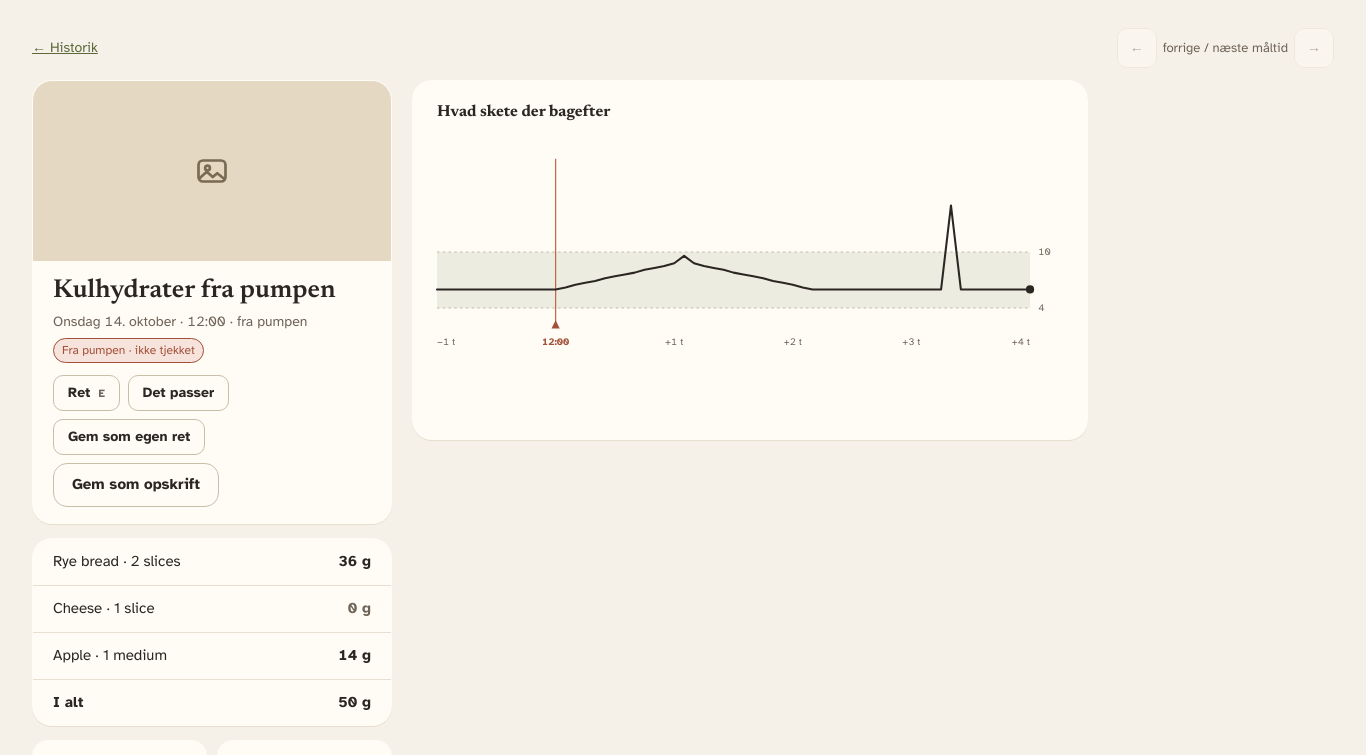
Test: Måltid · who logged a pump meal (#244) › desktop: names the person who ticks 'Det passer' once the meal is theirs
The width and height of the screenshot is (1366, 755).
Step 1. Click the button "Det passer" → click(178, 393), box [128,375,229,411]
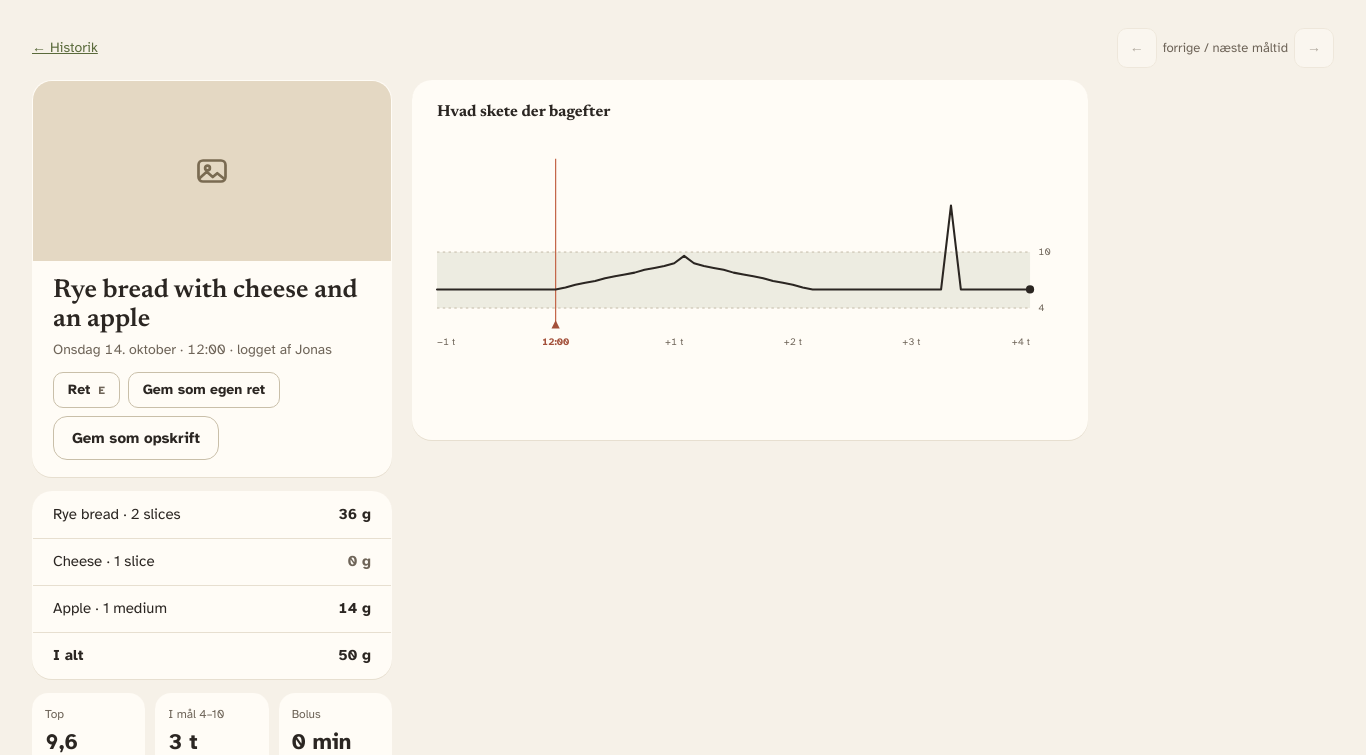
expect the text "Onsdag 14. oktober · 12:00 · logget af Jonas" is shown: met, box [53,340,371,360]
expect the heading "fra pumpen" is gone: met
